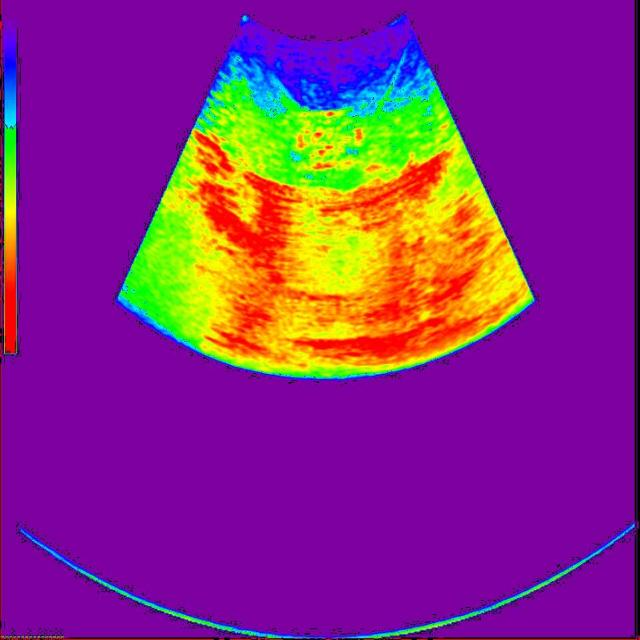lamb liver post: (287, 108, 369, 178)
